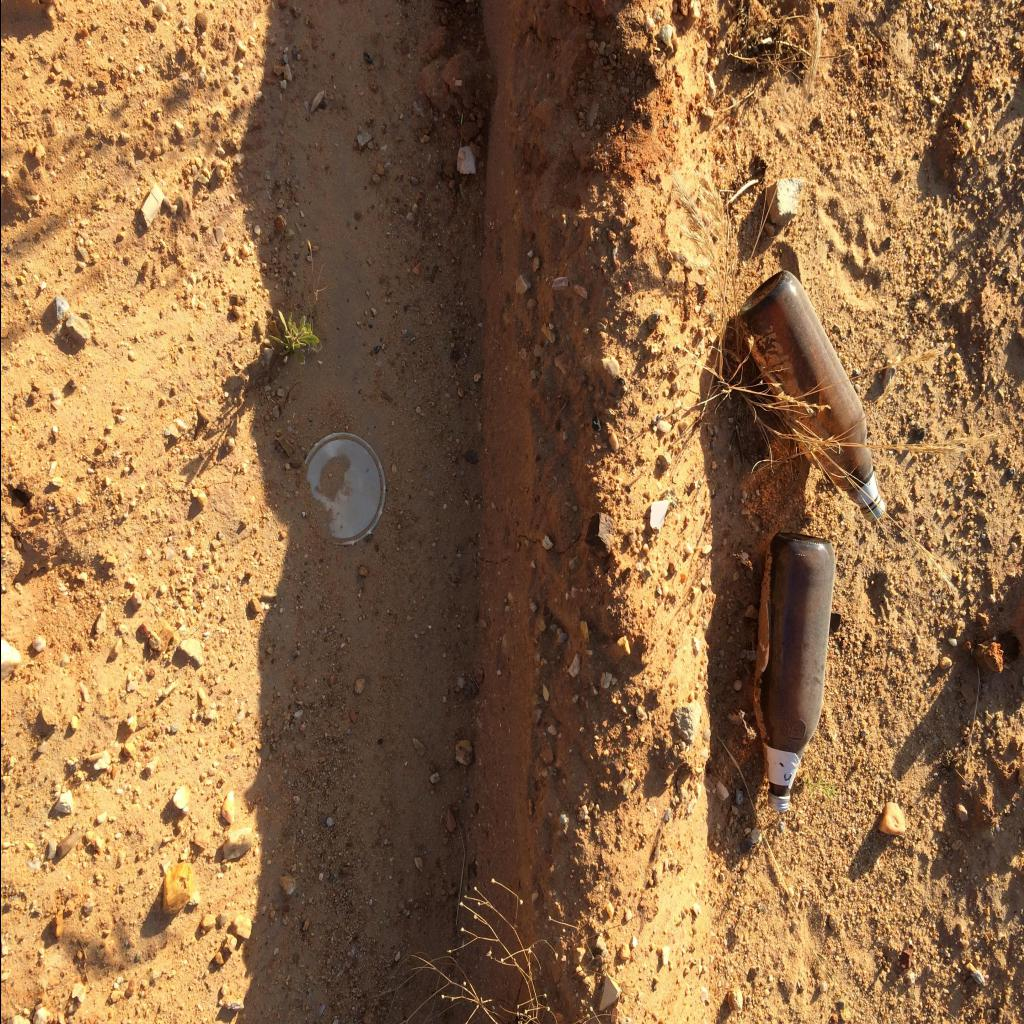Glass bottle: (738, 270, 884, 522), (752, 531, 835, 811)
Metal bottle cap: (862, 500, 884, 524), (766, 797, 788, 811)
Plastic lid: (304, 432, 384, 544)
